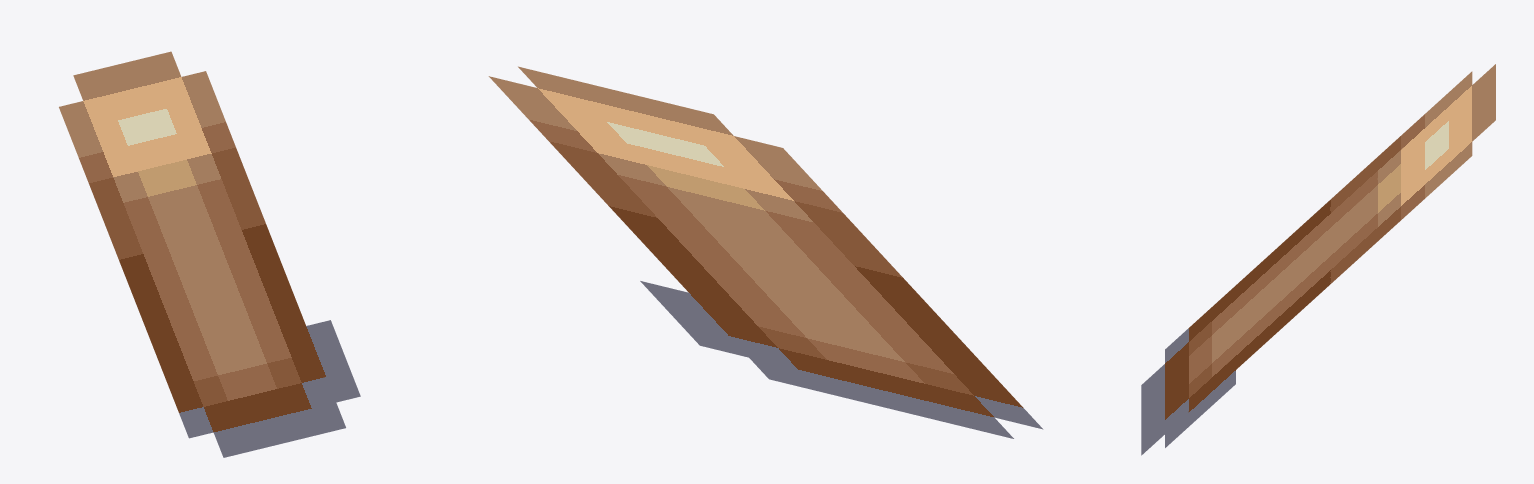
The model's file is cloture-bois-fin-horizontal.glb.
The picture shows the model from 3 angles, left to right: view 1: azimuth 30°, elevation 25°; view 2: azimuth 150°, elevation 25°; view 3: azimuth 270°, elevation 25°; orthographic projection. The views are drawn at different scales.
Bounding box in the file's own units: 0.5 × 0.707 × 0.707.
1 material, 1 textured.
